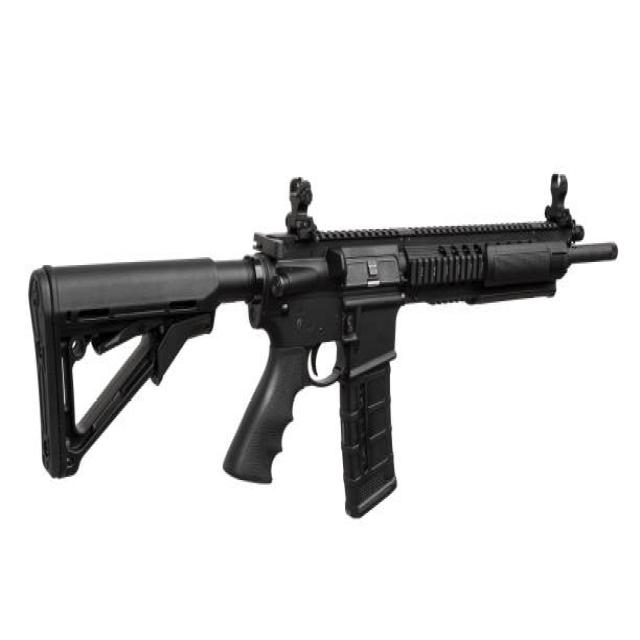rifle: (30, 172, 626, 527)
